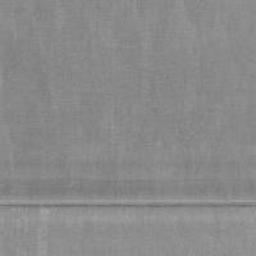Welding line: (0, 201, 256, 209)
